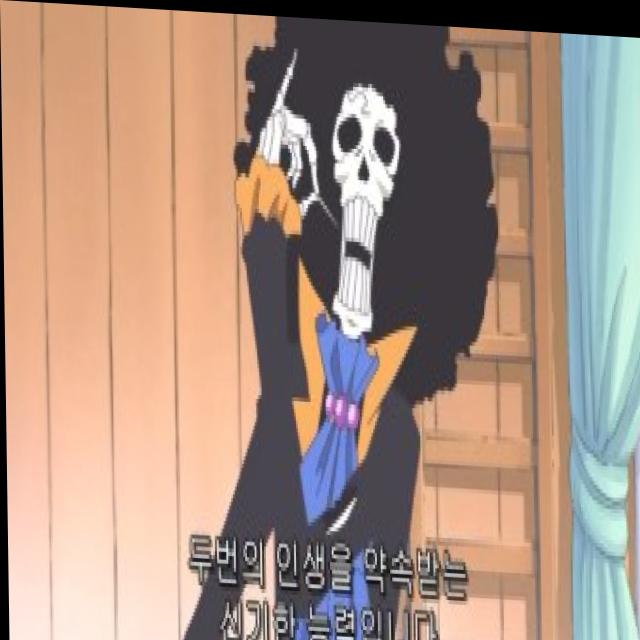Blook: (241, 11, 468, 395)
